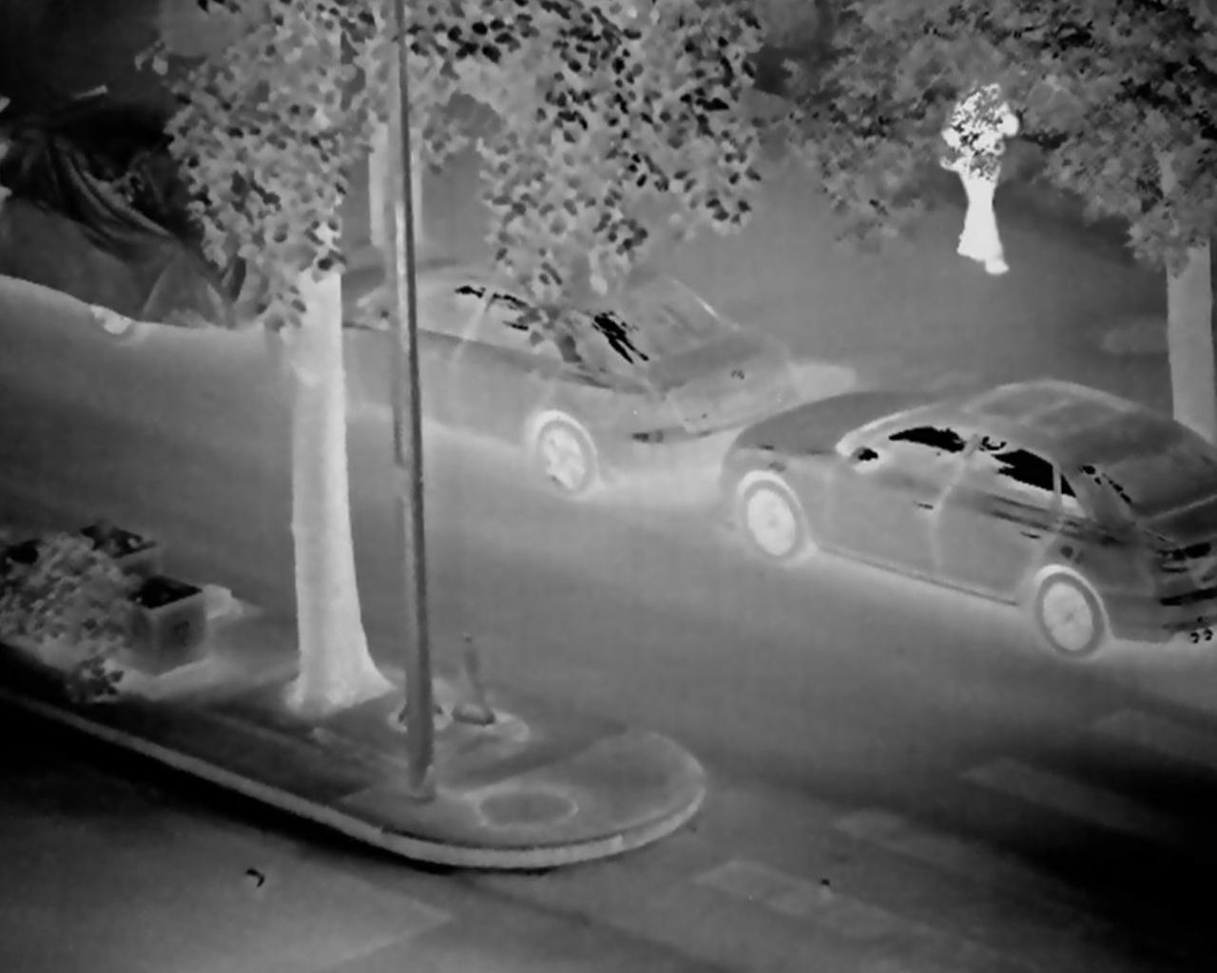person: (937, 78, 1027, 283)
